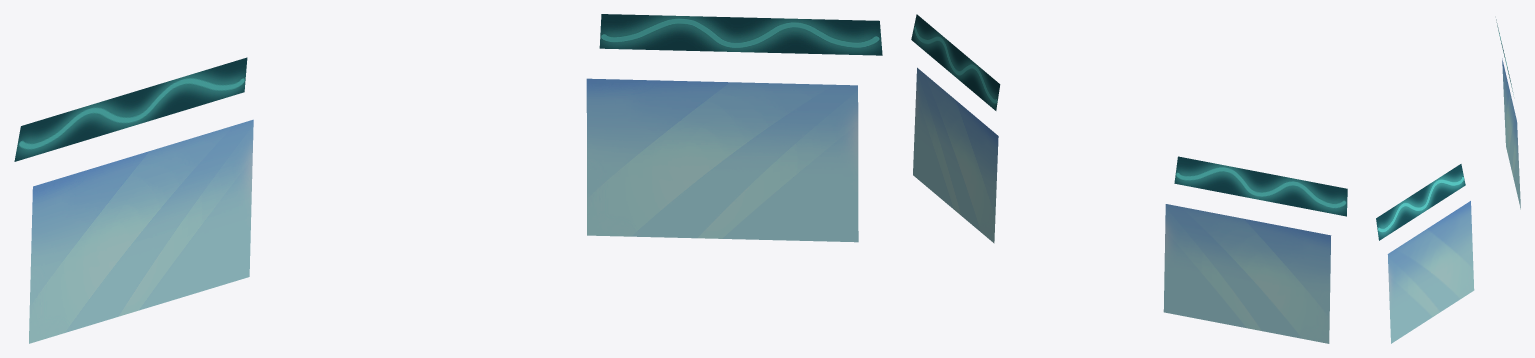
File: DisneyStoreWindows.fbx
3 renders of one model, left to right at view 1: azimuth 30°, elevation 25°; view 2: azimuth 150°, elevation 25°; view 3: azimuth 270°, elevation 25°, orthographic. The views are drawn at different scales.
Parts seen in each view (by area): view 1: DisneyStoreWindows; view 2: DisneyStoreWindows; view 3: DisneyStoreWindows.
Part boxes in pixels (x1=…): DisneyStoreWindows: x1=14, y1=14, x2=882, y2=343; DisneyStoreWindows: x1=911, y1=14, x2=1347, y2=343; DisneyStoreWindows: x1=1376, y1=19, x2=1520, y2=343.
Bounding box in the file's own units: 850 × 245 × 252.
